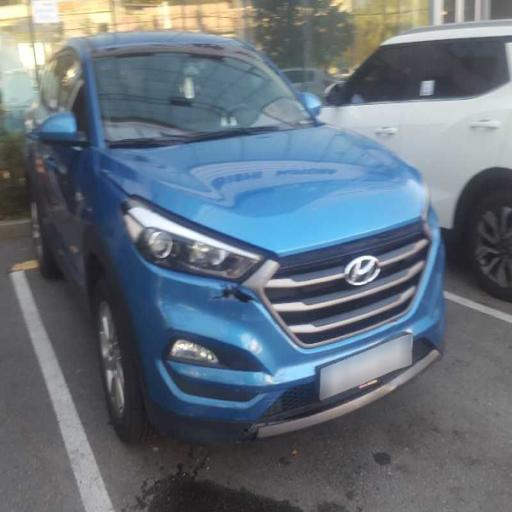broken: (194, 246, 291, 354)
